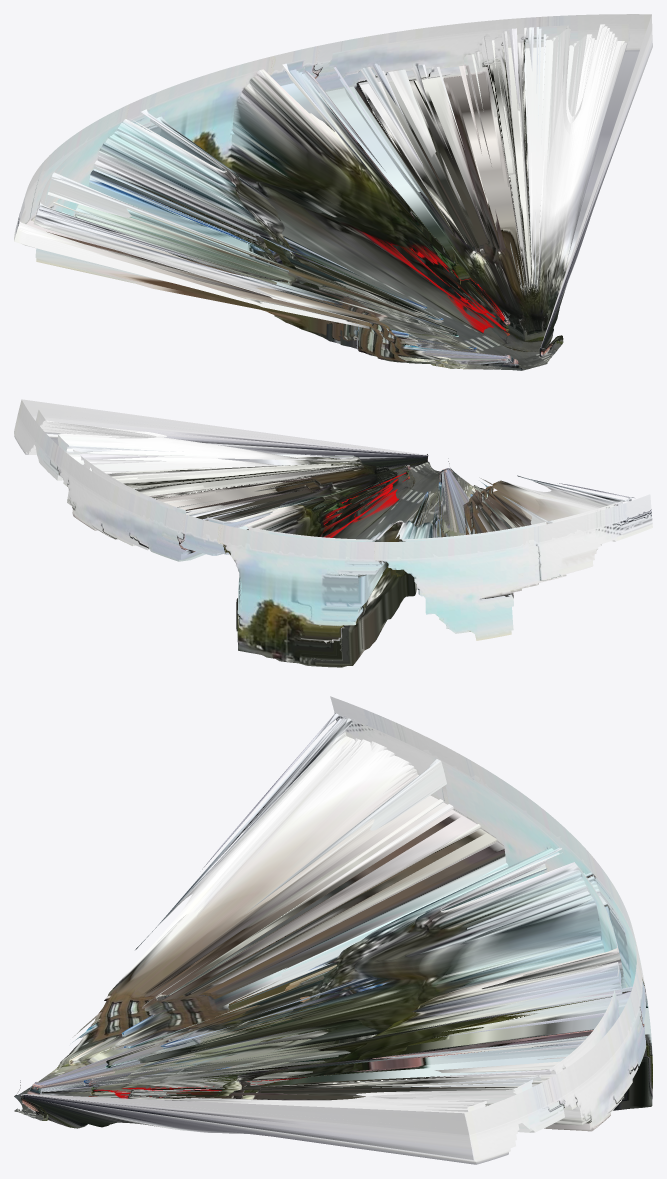
The model's file is street.glb.
3 renders of one model, top to bottom at view 1: azimuth 30°, elevation 25°; view 2: azimuth 150°, elevation 25°; view 3: azimuth 270°, elevation 25°, orthographic. The views are drawn at different scales.
Parts seen in each view (by area): view 1: street, backdrop; view 2: backdrop, street; view 3: street, backdrop.
Part boxes in pixels (x1,y1,x2,y2): street: (33,24,629,369); backdrop: (14,14,652,370); backdrop: (14,399,652,667); street: (36,410,634,541); street: (14,713,625,1117); backdrop: (14,696,652,1164).
Bounding box in the file's own units: 139 × 33.55 × 91.96.
Materials: 1 (1 with a texture image).
